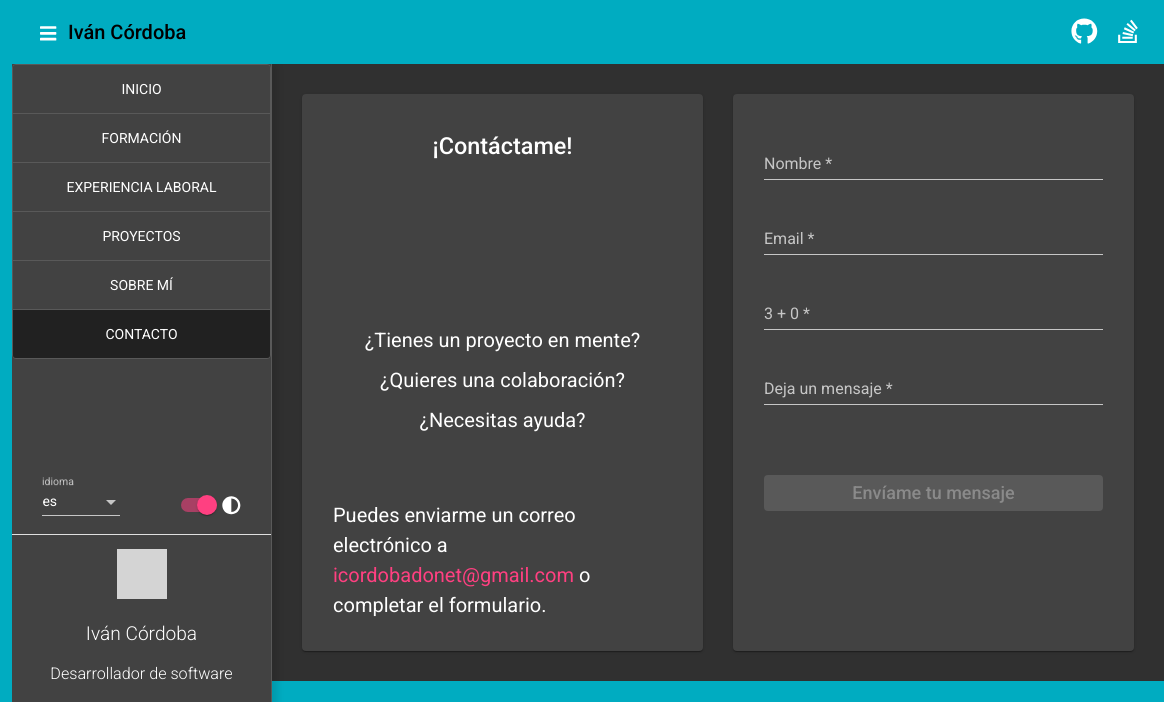
Test case: Contact Page › should show required error on message field
Type "nabby27" into the text box with test id "contactFieldMessageInput".
click(934, 389); type("nabby27")  # box [764,378,1103,400]
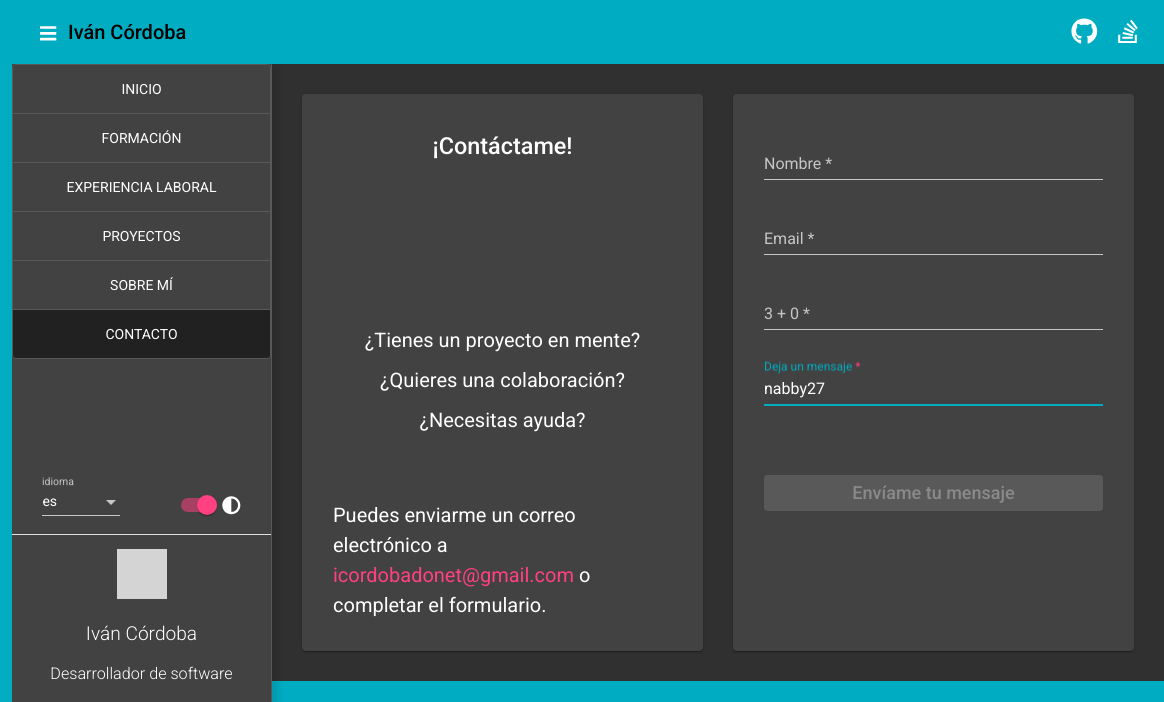
Clear the text box with test id "contactFieldMessageInput" at (934, 389), box [764,378,1103,400]
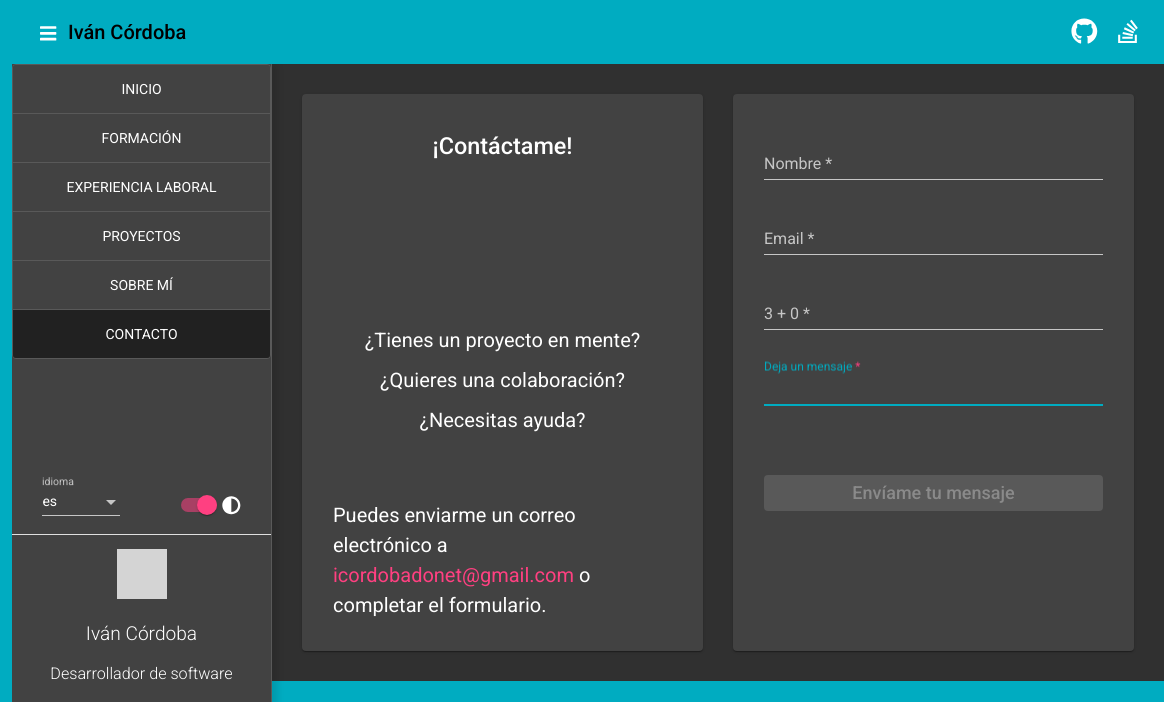
Click the element with test id "contactCard" that starts with "¡Contáctame!".
click(503, 373)  # box [302,94,703,651]
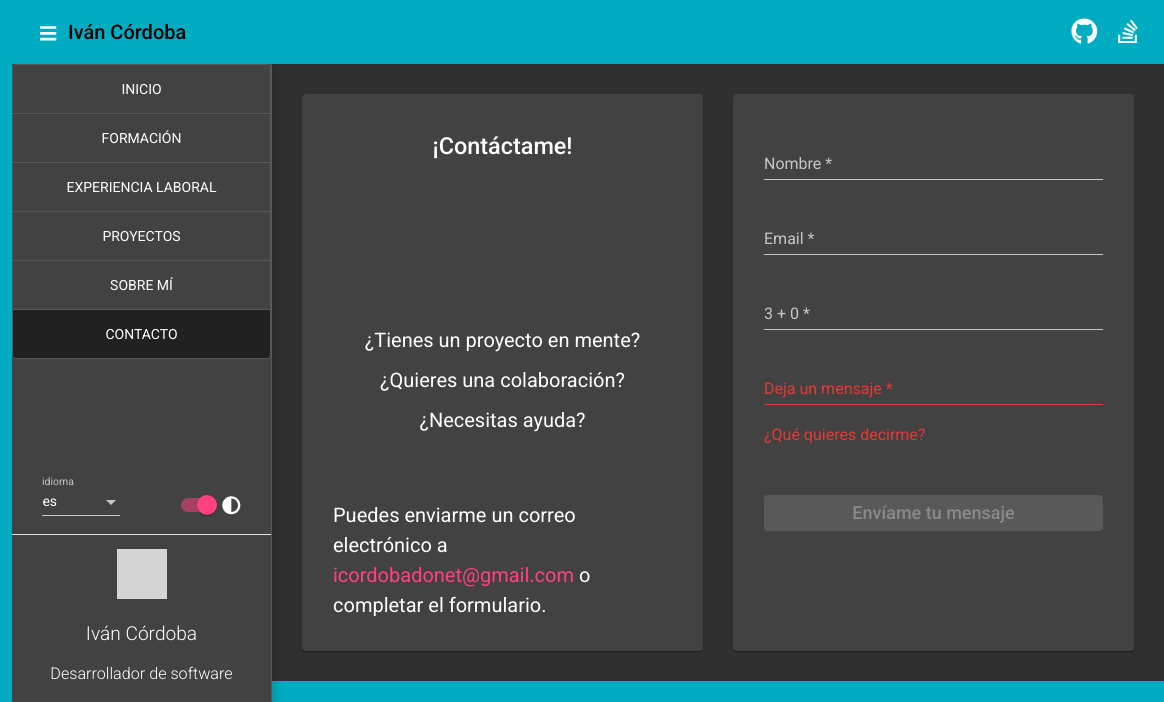
Now the text "¿Qué quieres decirme?" is shown, box [764,425,925,444]
